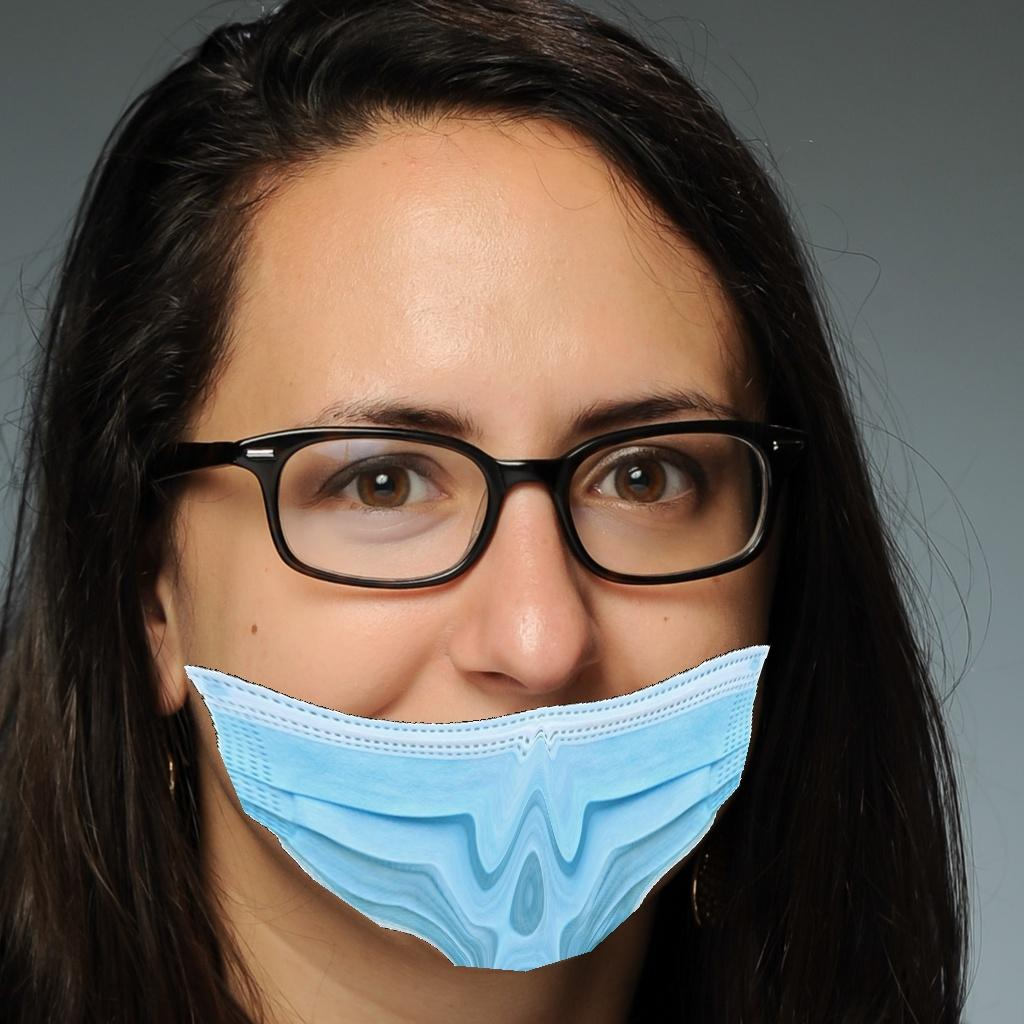Máscara Incorreta: (183, 340, 779, 931)
